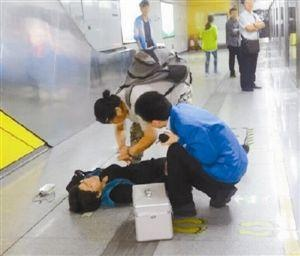falling: (62, 146, 237, 214)
